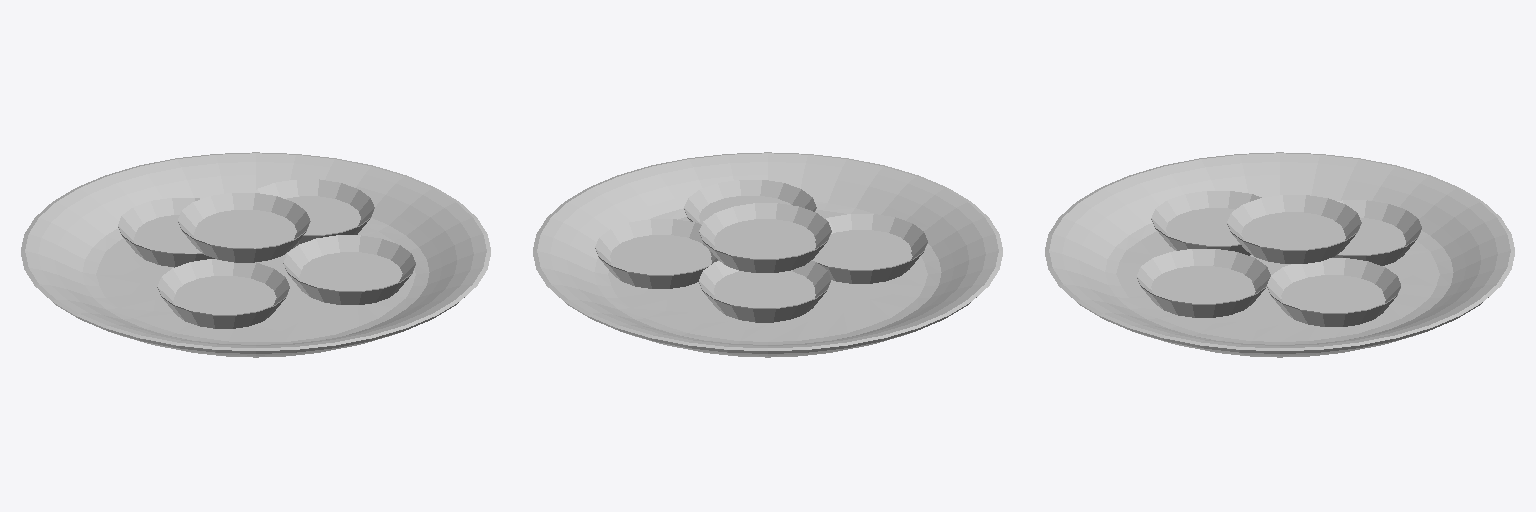
File: KUE APEM SELONG.obj
3 renders of one model, left to right at view 1: azimuth 30°, elevation 25°; view 2: azimuth 150°, elevation 25°; view 3: azimuth 270°, elevation 25°, orthographic.
Visible parts, largest first — view 1: Cylinder, Cylinder.011, Cylinder.005, Cylinder.003, Cylinder.004, Cylinder.006, Cylinder.012, Cylinder.007, Cylinder.001, Cylinder.008, Cylinder.002; view 2: Cylinder, Cylinder.011, Cylinder.007, Cylinder.012, Cylinder.008, Cylinder.002, Cylinder.004, Cylinder.003, Cylinder.001, Cylinder.005, Cylinder.006; view 3: Cylinder, Cylinder.011, Cylinder.005, Cylinder.007, Cylinder.012, Cylinder.006, Cylinder.008, Cylinder.003, Cylinder.004, Cylinder.001, Cylinder.002.
Boxes of the visible parts, box(x1,y1,x2,y2) form: Cylinder: box(21, 152, 490, 357); Cylinder.011: box(178, 193, 310, 262); Cylinder.005: box(283, 235, 415, 304); Cylinder.003: box(157, 259, 289, 328); Cylinder.004: box(175, 276, 276, 314); Cylinder.006: box(301, 252, 402, 290); Cylinder.012: box(195, 210, 296, 248); Cylinder.007: box(252, 179, 374, 247); Cylinder.001: box(118, 198, 214, 267); Cylinder.008: box(286, 196, 360, 234); Cylinder.002: box(135, 215, 201, 253); Cylinder: box(533, 152, 1002, 357); Cylinder.011: box(699, 203, 831, 272); Cylinder.007: box(595, 219, 718, 288); Cylinder.012: box(714, 219, 815, 258); Cylinder.008: box(610, 235, 711, 274); Cylinder.002: box(714, 271, 814, 307); Cylinder.004: box(814, 230, 911, 269); Cylinder.003: box(812, 214, 927, 283); Cylinder.001: box(699, 260, 830, 322); Cylinder.005: box(684, 180, 816, 224); Cylinder.006: box(699, 196, 790, 223); Cylinder: box(1045, 152, 1514, 357); Cylinder.011: box(1227, 195, 1361, 263); Cylinder.005: box(1137, 249, 1270, 317); Cylinder.007: box(1267, 258, 1400, 326); Cylinder.012: box(1241, 212, 1344, 249); Cylinder.006: box(1151, 266, 1253, 303); Cylinder.008: box(1281, 275, 1383, 312); Cylinder.003: box(1151, 191, 1261, 255); Cylinder.004: box(1166, 208, 1239, 245); Cylinder.001: box(1332, 200, 1421, 265); Cylinder.002: box(1338, 218, 1404, 254).
Size of the model in its own units: 2.31 by 0.3385 by 2.31.